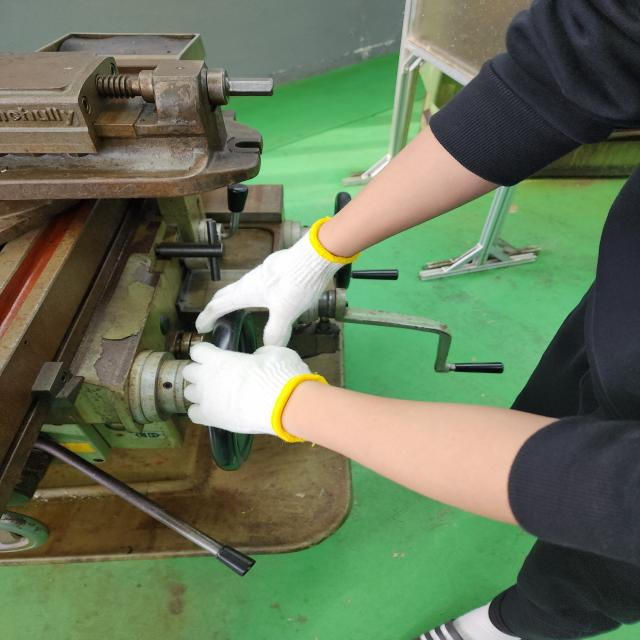Boots: (202, 220, 348, 342), (191, 347, 316, 447)
